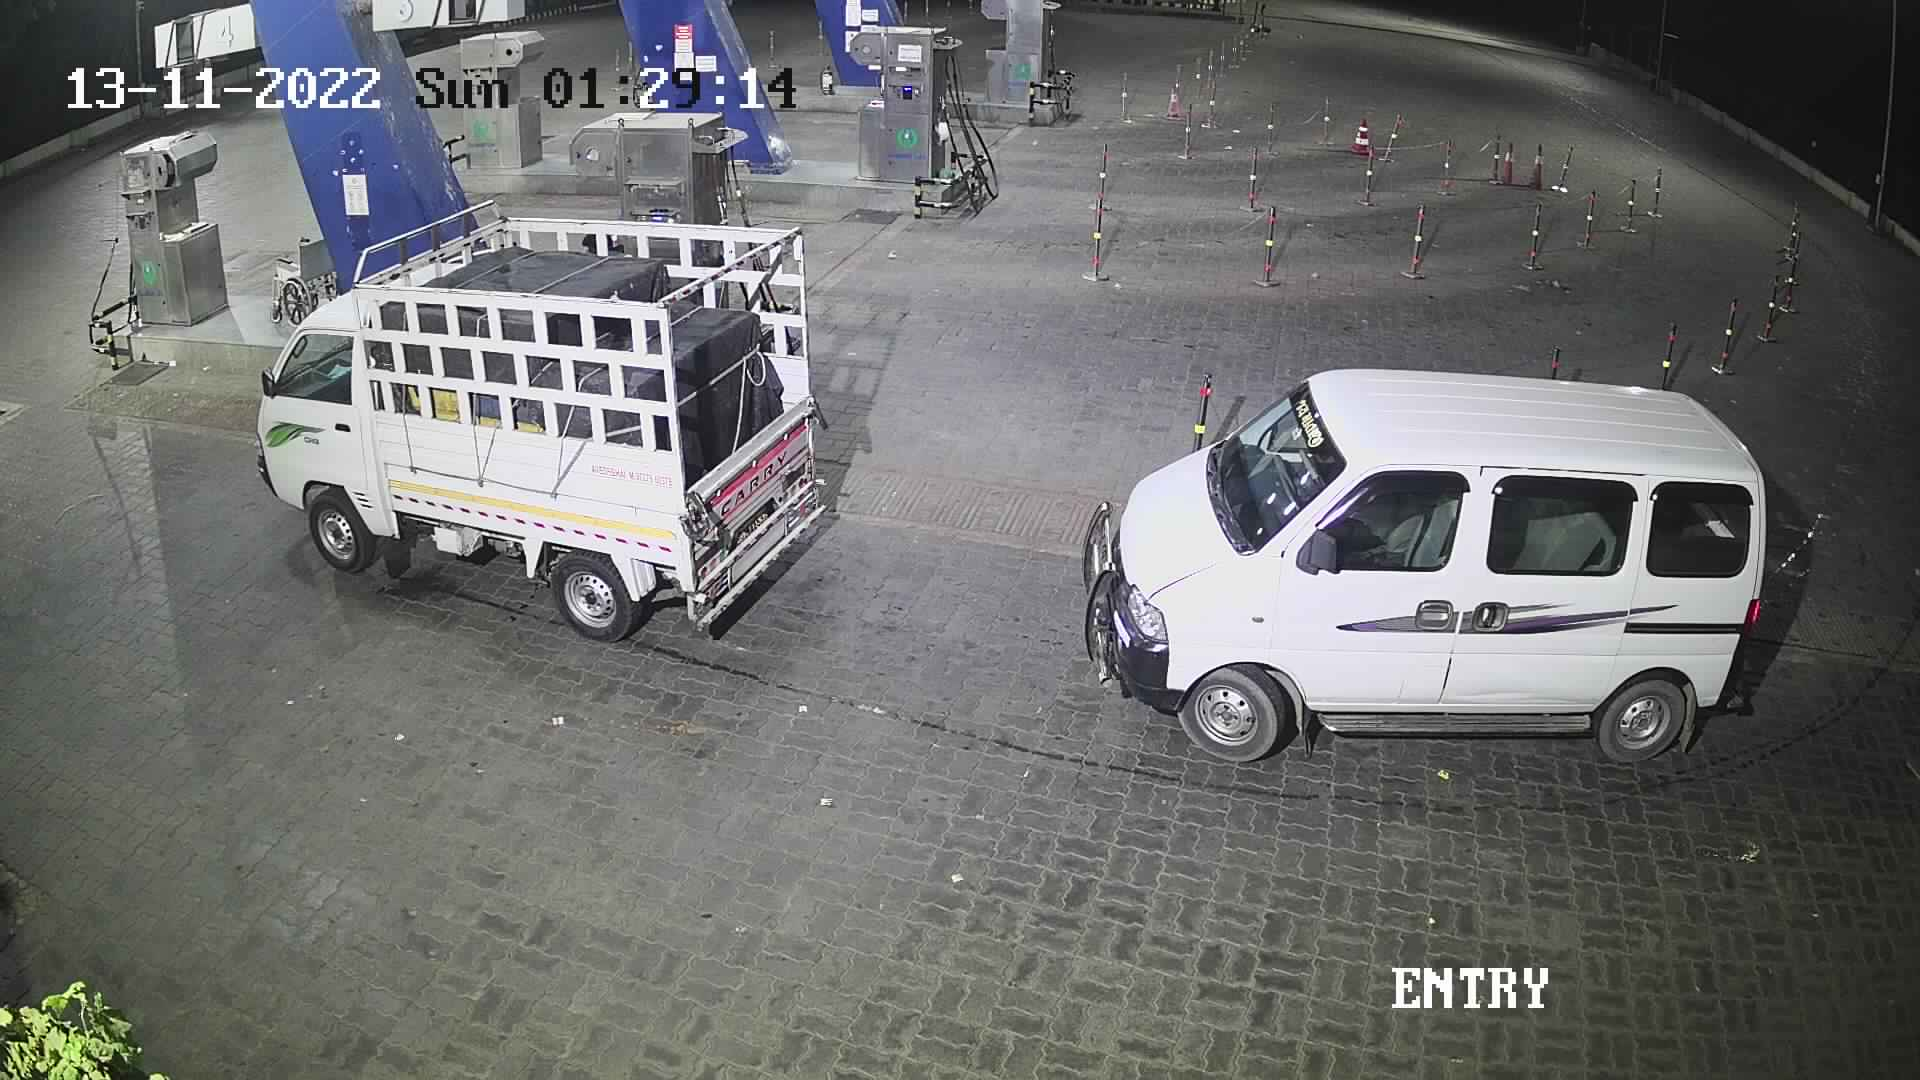Car: (1065, 353, 1787, 787), (243, 191, 836, 655)
